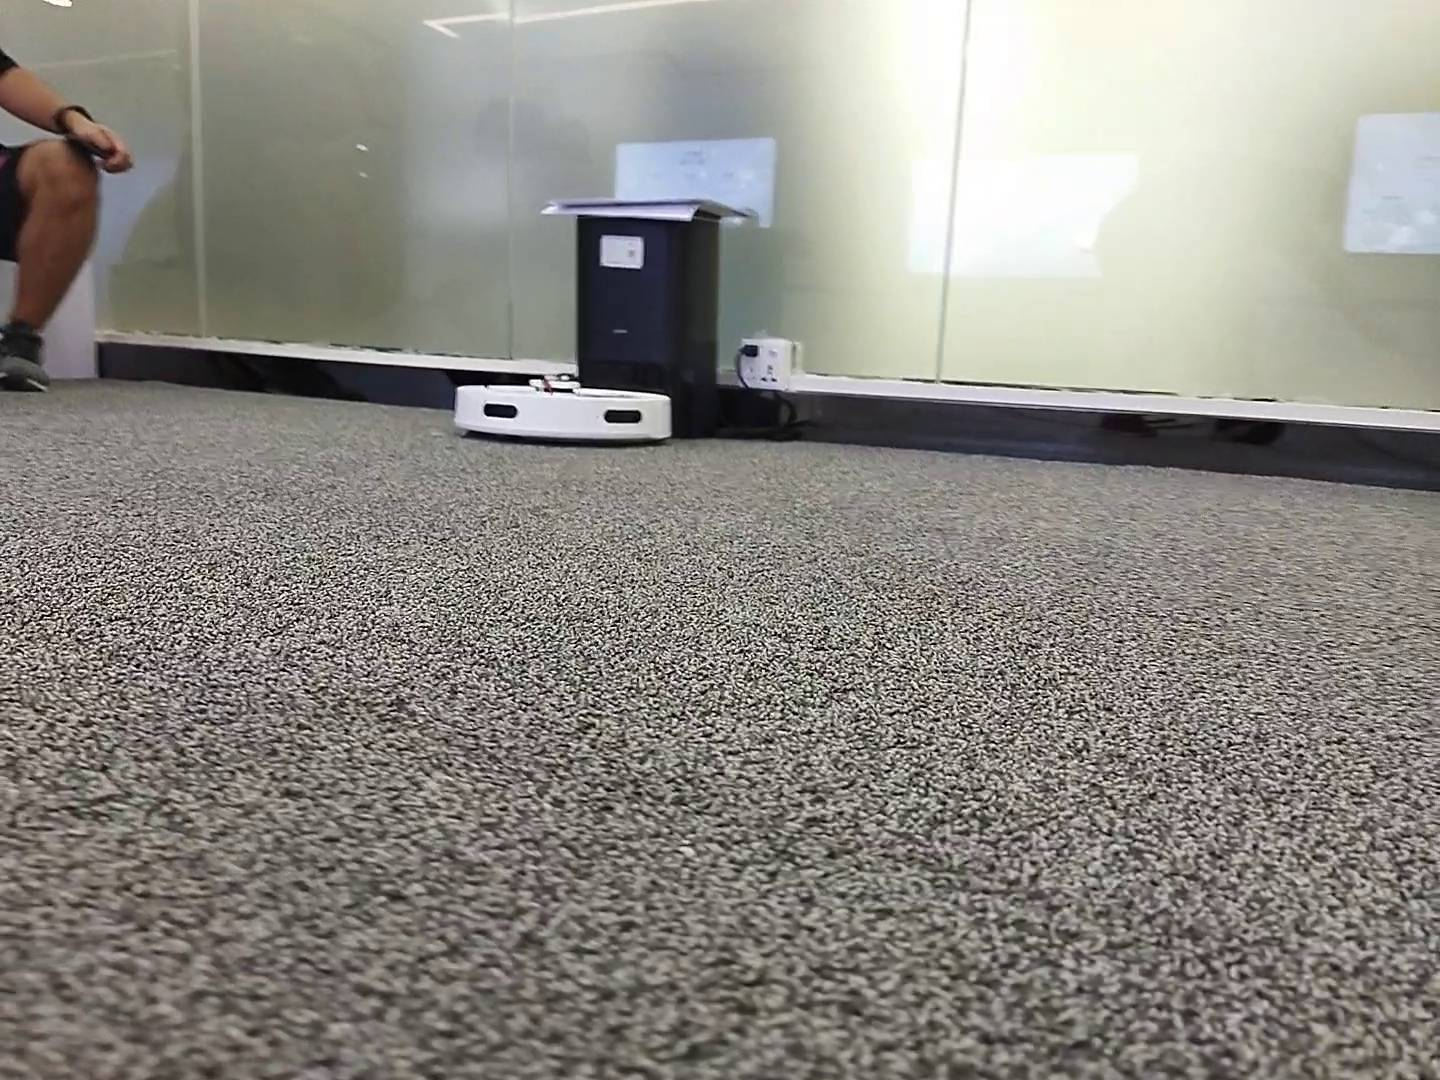dust collecting barrel: (574, 206, 720, 429)
